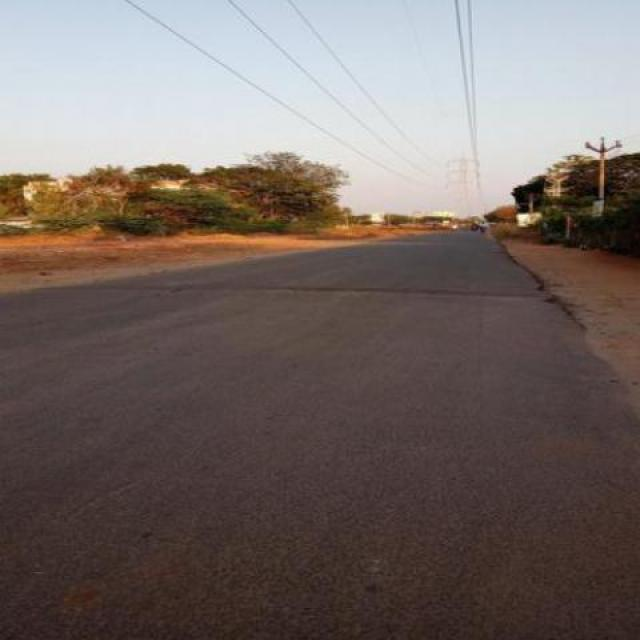Unmarked Bump: (31, 278, 554, 301)
